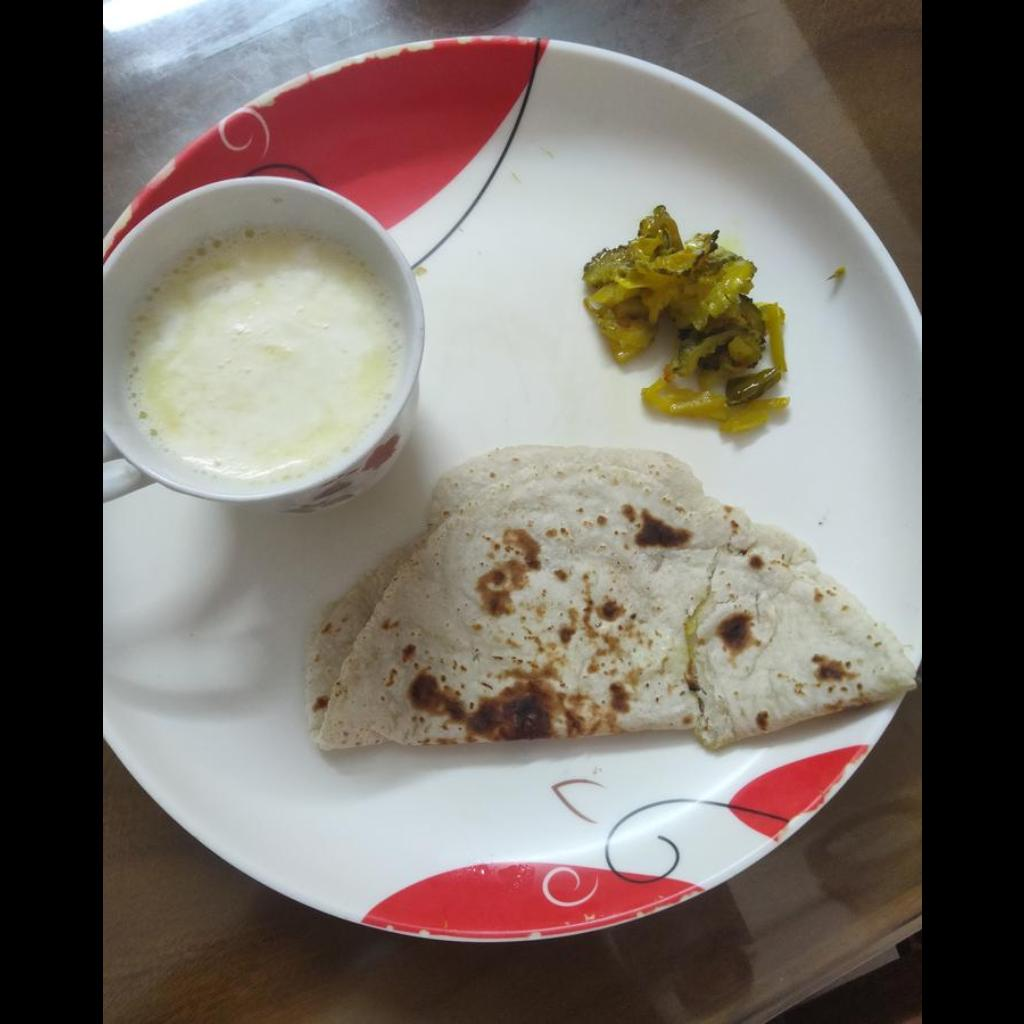milk: (127, 233, 395, 471)
ruti: (294, 448, 920, 754)
vaji: (586, 200, 792, 433)
